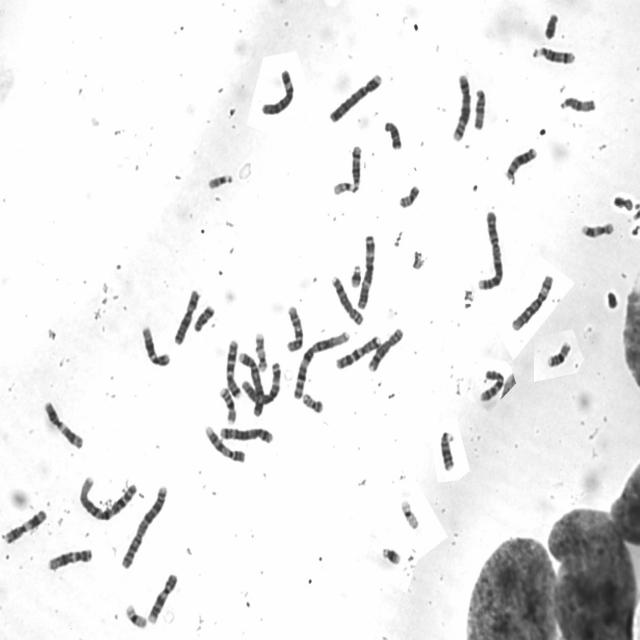A1: (291, 328, 352, 402), (76, 473, 138, 522)
A2: (119, 482, 170, 571), (476, 208, 504, 292)
A3: (240, 358, 282, 404), (354, 231, 376, 311)
B4: (326, 71, 384, 125), (237, 349, 264, 418)
B5: (449, 70, 472, 144), (218, 423, 275, 445)
C10: (478, 366, 506, 404), (284, 302, 304, 354)
C11: (41, 399, 84, 450), (2, 507, 48, 544)
C12: (139, 324, 171, 368), (46, 545, 94, 572)
C6: (509, 271, 555, 333), (259, 66, 296, 117)
C7: (332, 332, 382, 371), (223, 337, 243, 400)
C8: (328, 274, 364, 327), (366, 325, 404, 373)
C9: (203, 422, 246, 464), (145, 571, 179, 624)
D13: (503, 144, 538, 182), (437, 427, 456, 472)
D14: (530, 44, 576, 65), (348, 142, 363, 192)
D15: (558, 94, 597, 114), (471, 86, 487, 131)
E16: (217, 384, 238, 424), (545, 338, 572, 368)
E17: (253, 329, 269, 374), (579, 219, 615, 239)
E18: (191, 302, 216, 334), (382, 117, 404, 151)
F19: (398, 496, 422, 532), (123, 600, 148, 630)
F20: (396, 182, 421, 209), (300, 392, 325, 414)
G21: (379, 543, 403, 566), (348, 261, 363, 289)
G22: (204, 169, 236, 191), (330, 178, 360, 196)
X: (172, 287, 201, 346)
Y: (542, 11, 560, 40)
